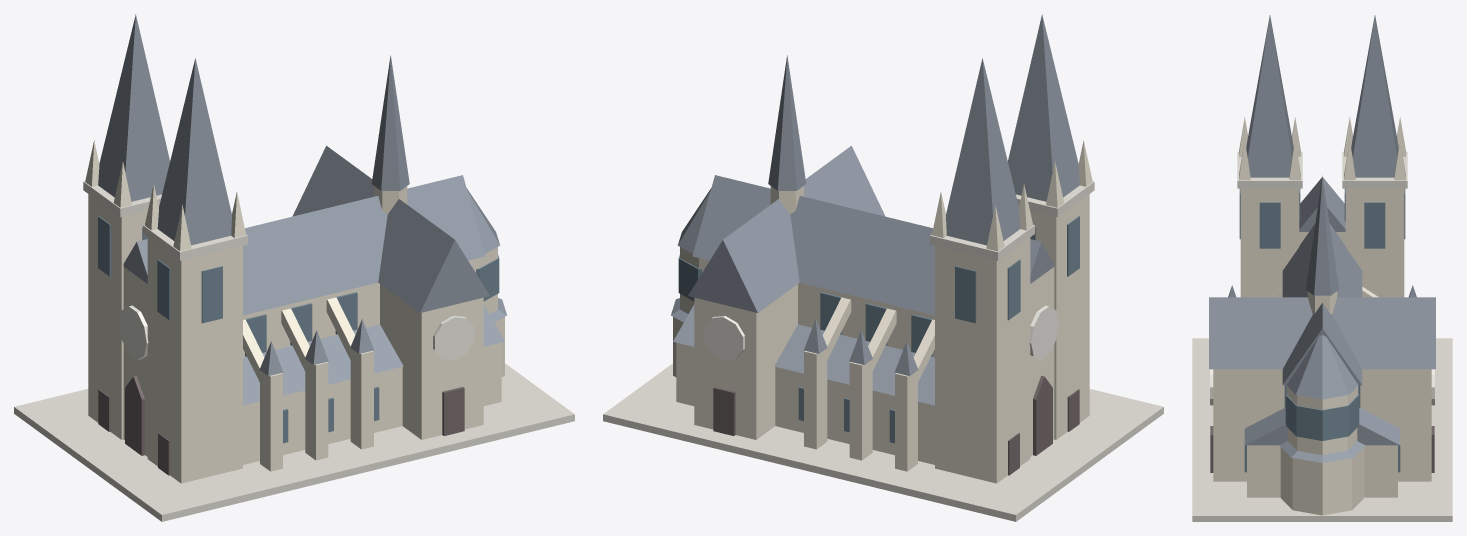
File: cathedral.glb
3 views of the same model, side by side, from view 1: azimuth 30°, elevation 25°; view 2: azimuth 150°, elevation 25°; view 3: azimuth 270°, elevation 25° (orthographic). The views are drawn at different scales.
Visible parts, largest first — view 1: wonder_cathedral; view 2: wonder_cathedral; view 3: wonder_cathedral.
Part boxes in pixels (x1,y1,x2,y2): wonder_cathedral: (14, 14, 574, 521); wonder_cathedral: (603, 14, 1163, 521); wonder_cathedral: (1192, 15, 1452, 521).
Bounding box in the file's own units: 1 × 0.9531 × 0.6181.
